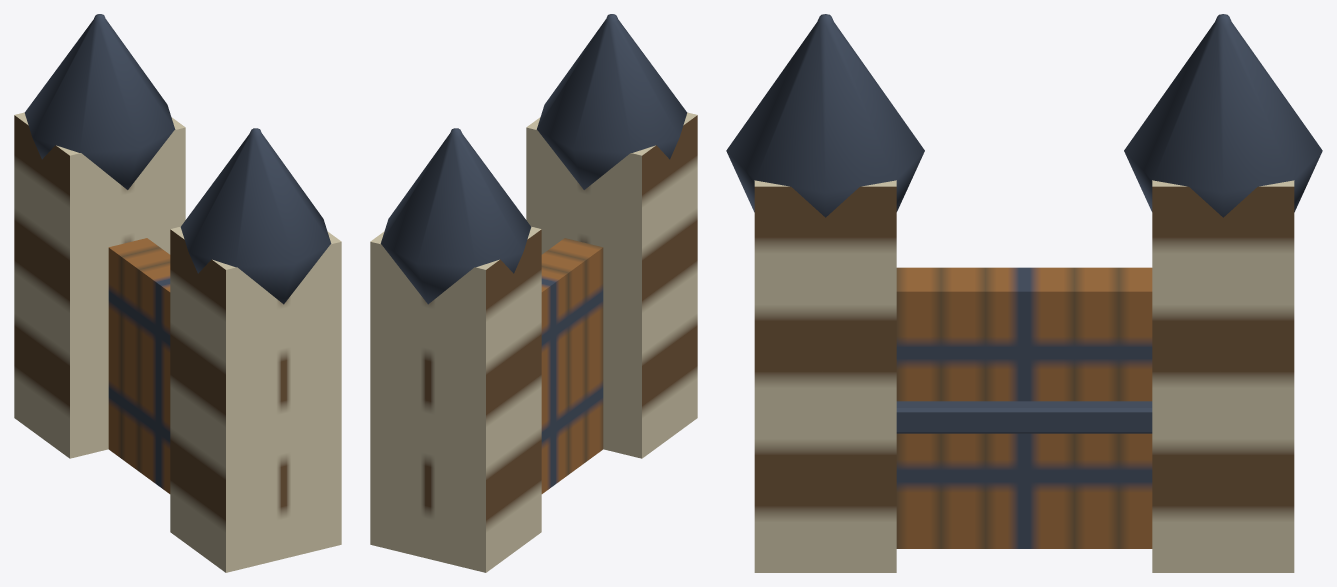
File: prop_gate_eb12.glb
The picture shows the model from 3 angles, left to right: view 1: azimuth 30°, elevation 25°; view 2: azimuth 150°, elevation 25°; view 3: azimuth 270°, elevation 25°; orthographic projection. The views are drawn at different scales.
Parts seen in each view (by area): view 1: prop_gate_eb12; view 2: prop_gate_eb12; view 3: prop_gate_eb12.
Boxes of the visible parts, bbox=[...] form: prop_gate_eb12: bbox=[14, 14, 341, 572]; prop_gate_eb12: bbox=[370, 14, 697, 572]; prop_gate_eb12: bbox=[726, 14, 1322, 572].
Bounding box in the file's own units: 0.6188 × 1.79 × 1.86.
1 material, 1 textured.
